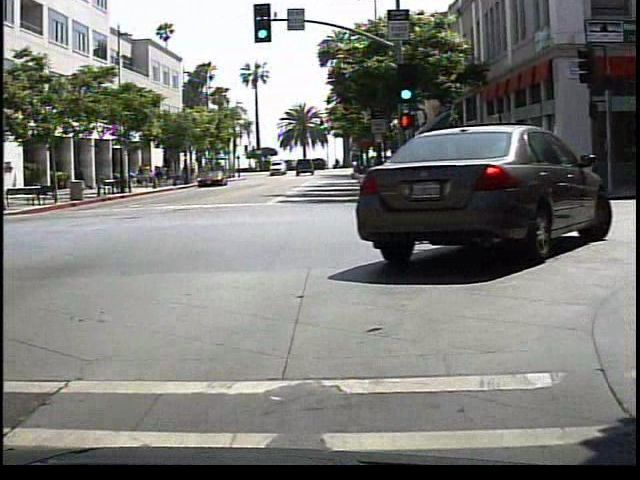person: (70, 161, 88, 192)
